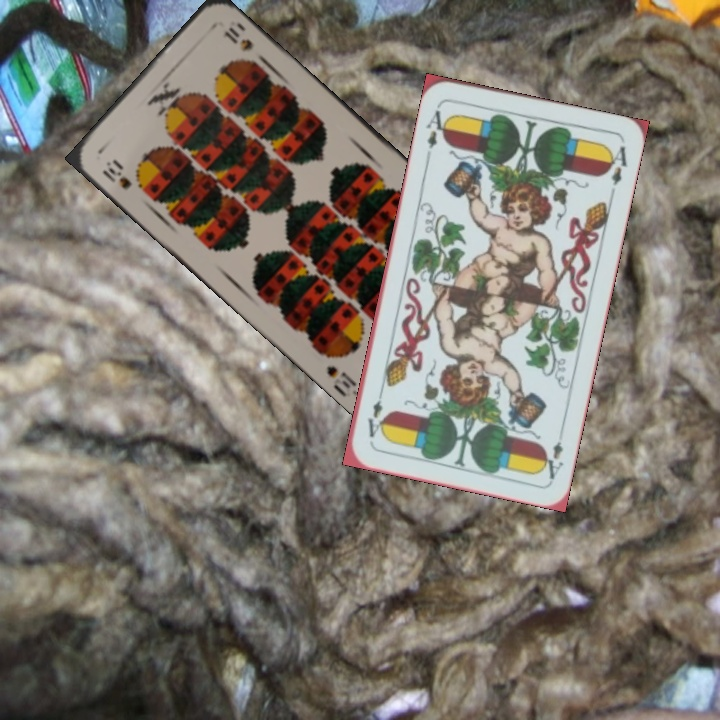EA: (538, 424, 566, 482), (422, 101, 452, 152)
S10: (98, 156, 135, 192)
